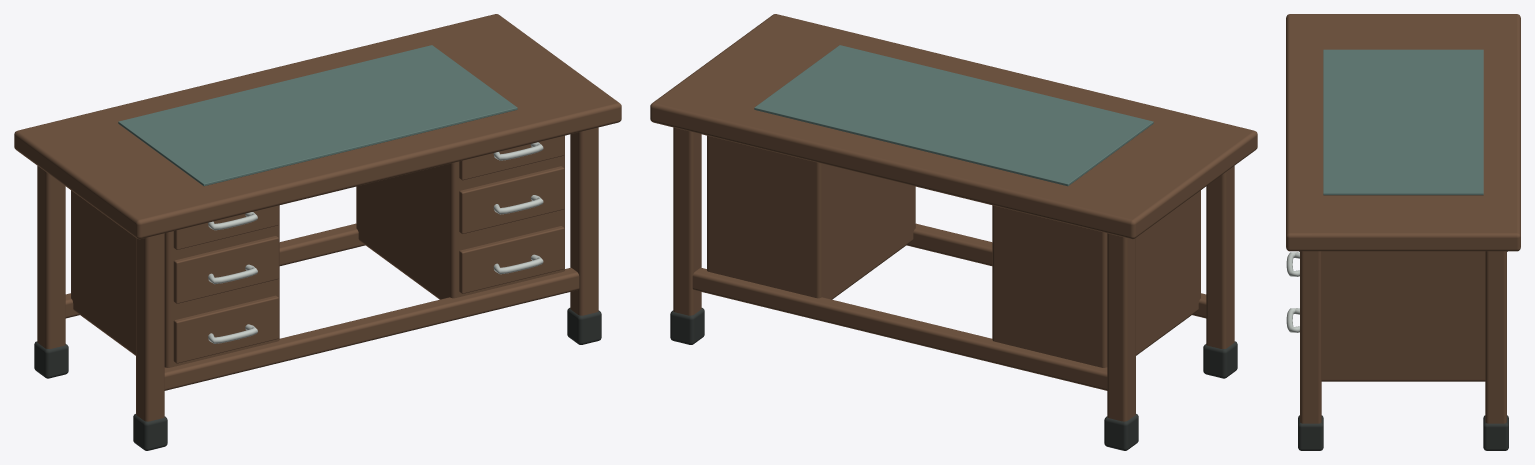
Rendered from abandoned-telephone-exchange-supervisor-desk-50df53f9__31988.glb.
3 renders of one model, left to right at view 1: azimuth 30°, elevation 25°; view 2: azimuth 150°, elevation 25°; view 3: azimuth 270°, elevation 25°, orthographic. The views are drawn at different scales.
Parts seen in each view (by area): view 1: supervisor-desk; view 2: supervisor-desk; view 3: supervisor-desk.
Boxes of the visible parts, x1,y1,x2,y2 form: supervisor-desk: (14, 14, 621, 450); supervisor-desk: (650, 14, 1257, 450); supervisor-desk: (1286, 14, 1520, 450).
Bounding box in the file's own units: 1.7 × 0.8081 × 0.76.
